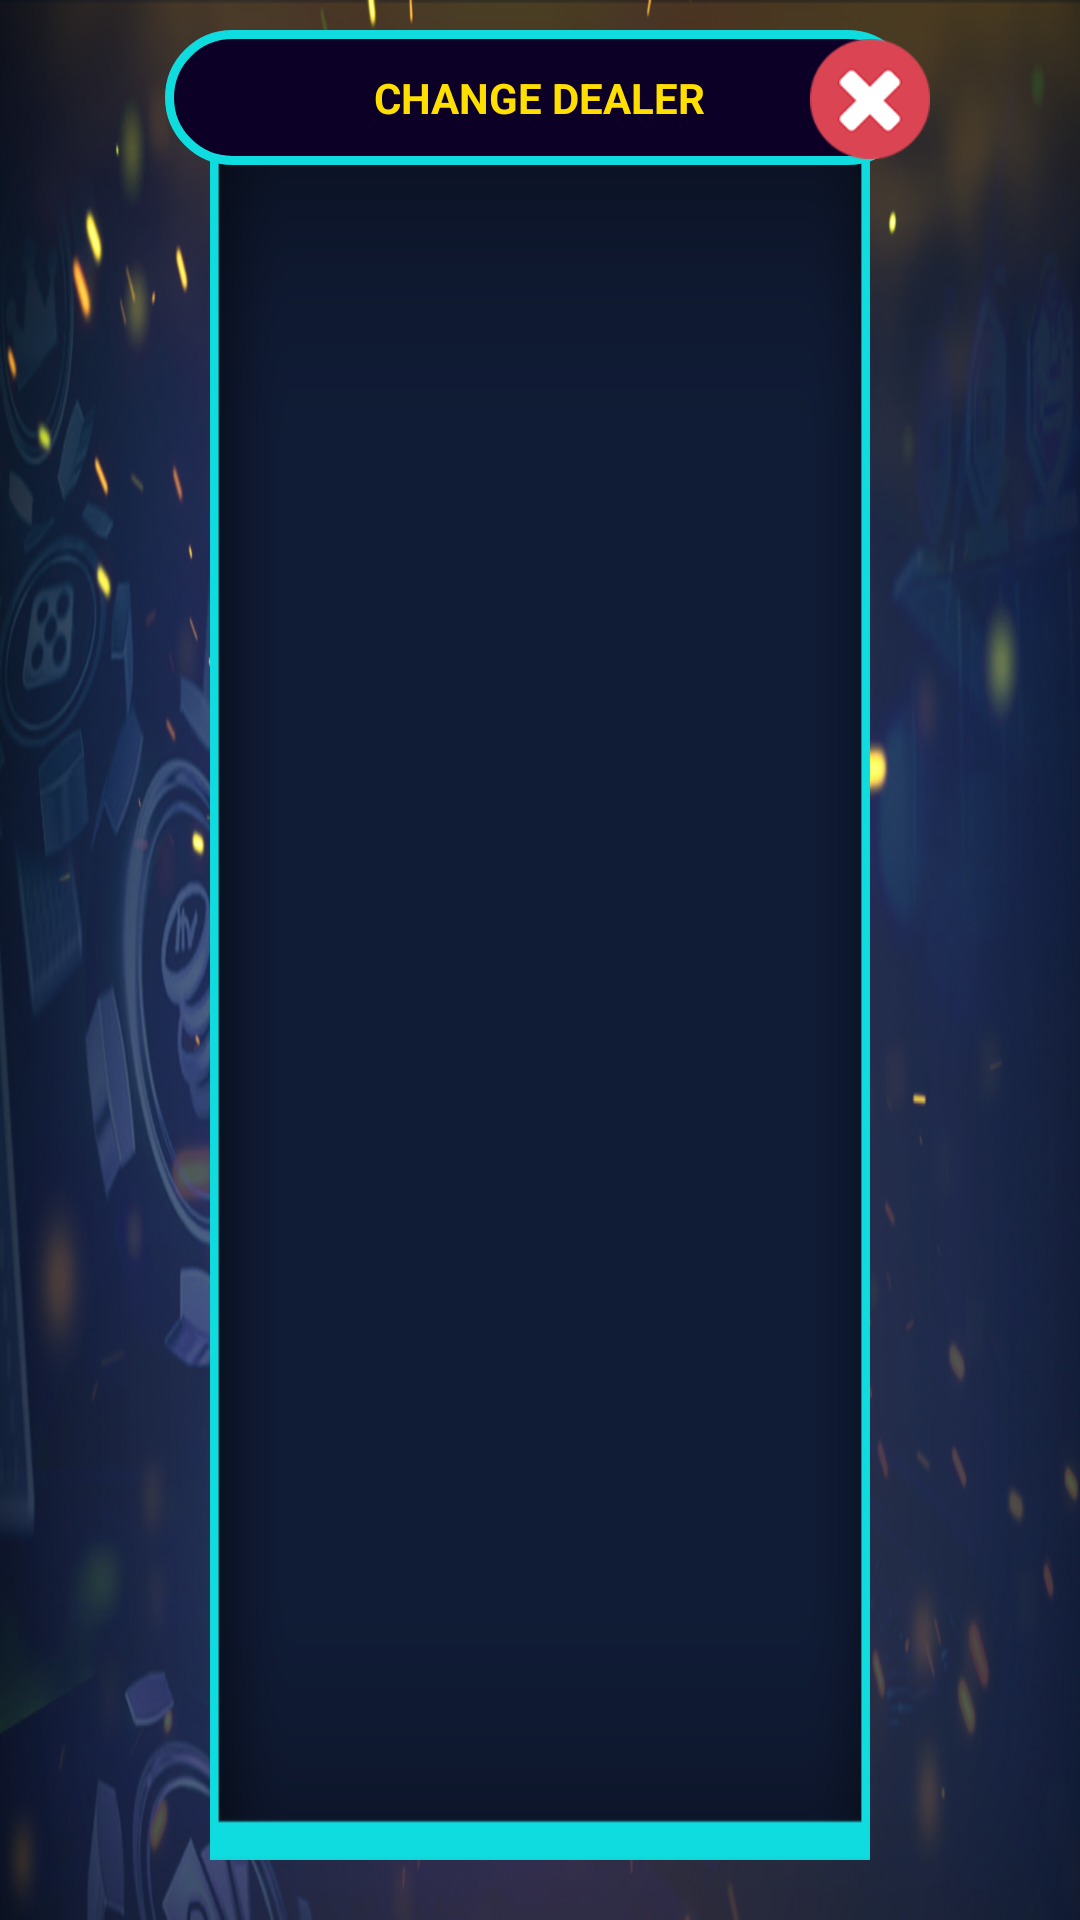

Named icons in this screenshot (1080*1920) and their centers, [x,y]:
close: [870,99]
